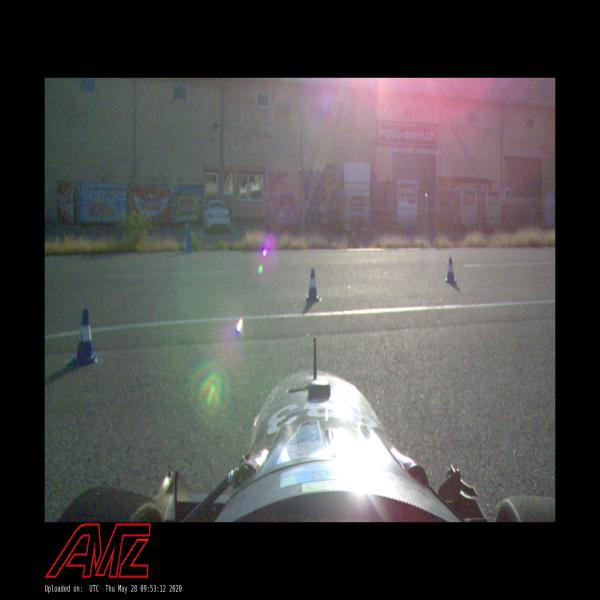blue_cone: (68, 307, 100, 366), (304, 267, 320, 302), (444, 256, 456, 284)
